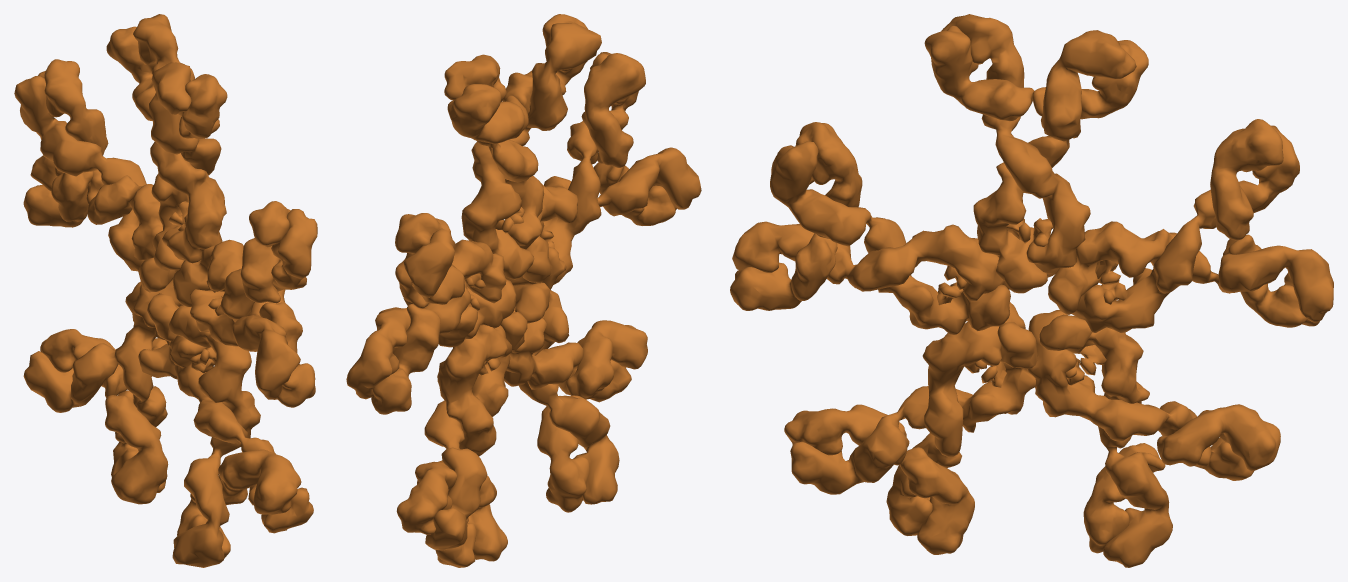
The model's file is iIgM_Antibody_5mer.fbx.
The picture shows the model from 3 angles, left to right: view 1: azimuth 30°, elevation 25°; view 2: azimuth 150°, elevation 25°; view 3: azimuth 270°, elevation 25°; orthographic projection. The views are drawn at different scales.
Parts seen in each view (by area): view 1: CoarseMS_2rcjCmsSuperPlus2ALA.4, CoarseMS_2rcjCmsSuperPlus2ALA.2, CoarseMS_2rcjDmsSuper, CoarseMS_2rcjCmsSuperPlus2ALA.5, CoarseMS_2rcjCmsSuperPlus2ALA.3, CoarseMS_2rcjCmsSuperPlus2ALA, CoarseMS_2rcjDmsSuper.5, CoarseMS_2rcjDmsSuper.4, CoarseMS_2rcjAmsSuper.3, CoarseMS_2rcjDmsSuper.3, CoarseMS_2rcjDmsSuper.2, CoarseMS_2rcjAmsSuper.4 (+9 smaller); view 2: CoarseMS_2rcjCmsSuperPlus2ALA, CoarseMS_2rcjCmsSuperPlus2ALA.4, CoarseMS_2rcjCmsSuperPlus2ALA.3, CoarseMS_2rcjCmsSuperPlus2ALA.5, CoarseMS_2rcjDmsSuper.2, CoarseMS_2rcjDmsSuper.3, CoarseMS_2rcjCmsSuperPlus2ALA.2, CoarseMS_2rcjDmsSuper, CoarseMS_2rcjDmsSuper.5, CoarseMS_2rcjAmsSuper.5, CoarseMS_2rcjDmsSuper.4, CoarseMS_2rcjAmsSuper.4 (+8 smaller); view 3: CoarseMS_2rcjDmsSuper.2, CoarseMS_2rcjDmsSuper, CoarseMS_2rcjDmsSuper.5, CoarseMS_2rcjDmsSuper.4, CoarseMS_2rcjDmsSuper.3, CoarseMS_2rcjCmsSuperPlus2ALA.5, CoarseMS_2rcjCmsSuperPlus2ALA, CoarseMS_2rcjCmsSuperPlus2ALA.2, CoarseMS_2rcjCmsSuperPlus2ALA.3, CoarseMS_2rcjCmsSuperPlus2ALA.4, CoarseMS_2rcjBmsSuper.3, CoarseMS_2rcjBmsSuper.2 (+11 smaller).
Part boxes in pixels (x1,y1,x2,y2): CoarseMS_2rcjCmsSuperPlus2ALA.4: (169, 305, 260, 567); CoarseMS_2rcjCmsSuperPlus2ALA.2: (14, 76, 175, 292); CoarseMS_2rcjDmsSuper: (133, 14, 226, 263); CoarseMS_2rcjCmsSuperPlus2ALA.5: (172, 239, 300, 399); CoarseMS_2rcjCmsSuperPlus2ALA.3: (23, 293, 179, 412); CoarseMS_2rcjCmsSuperPlus2ALA: (148, 62, 221, 270); CoarseMS_2rcjDmsSuper.5: (189, 209, 317, 346); CoarseMS_2rcjDmsSuper.4: (169, 335, 313, 533); CoarseMS_2rcjAmsSuper.3: (105, 390, 168, 504); CoarseMS_2rcjDmsSuper.3: (111, 279, 182, 492); CoarseMS_2rcjDmsSuper.2: (30, 155, 178, 272); CoarseMS_2rcjAmsSuper.4: (218, 449, 301, 514); CoarseMS_2rcjCmsSuperPlus2ALA: (461, 23, 601, 279); CoarseMS_2rcjCmsSuperPlus2ALA.4: (514, 282, 619, 504); CoarseMS_2rcjCmsSuperPlus2ALA.3: (424, 311, 527, 550); CoarseMS_2rcjCmsSuperPlus2ALA.5: (523, 147, 701, 283); CoarseMS_2rcjDmsSuper.2: (346, 239, 506, 399); CoarseMS_2rcjDmsSuper.3: (435, 325, 511, 567); CoarseMS_2rcjCmsSuperPlus2ALA.2: (403, 228, 516, 347); CoarseMS_2rcjDmsSuper: (444, 54, 544, 249); CoarseMS_2rcjDmsSuper.5: (505, 52, 638, 290); CoarseMS_2rcjAmsSuper.5: (581, 53, 645, 167); CoarseMS_2rcjDmsSuper.4: (503, 307, 631, 402); CoarseMS_2rcjAmsSuper.4: (566, 320, 647, 398); CoarseMS_2rcjDmsSuper.2: (1048, 221, 1333, 322); CoarseMS_2rcjDmsSuper: (973, 30, 1136, 293); CoarseMS_2rcjDmsSuper.5: (770, 141, 1010, 334); CoarseMS_2rcjDmsSuper.4: (790, 322, 1037, 494); CoarseMS_2rcjDmsSuper.3: (1039, 314, 1172, 567); CoarseMS_2rcjCmsSuperPlus2ALA.5: (732, 221, 1009, 300); CoarseMS_2rcjCmsSuperPlus2ALA: (941, 14, 1090, 277); CoarseMS_2rcjCmsSuperPlus2ALA.2: (1071, 125, 1299, 333); CoarseMS_2rcjCmsSuperPlus2ALA.3: (1027, 310, 1254, 480); CoarseMS_2rcjCmsSuperPlus2ALA.4: (886, 302, 1025, 535); CoarseMS_2rcjBmsSuper.3: (1157, 404, 1280, 470); CoarseMS_2rcjBmsSuper.2: (1210, 119, 1283, 240).
Bounding box in the file's own units: 69.3 × 360 × 372.
